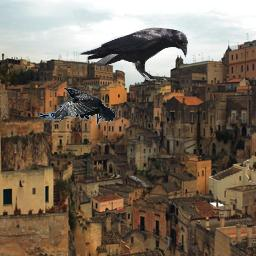Crow: (78, 27, 188, 81), (36, 87, 115, 125)
